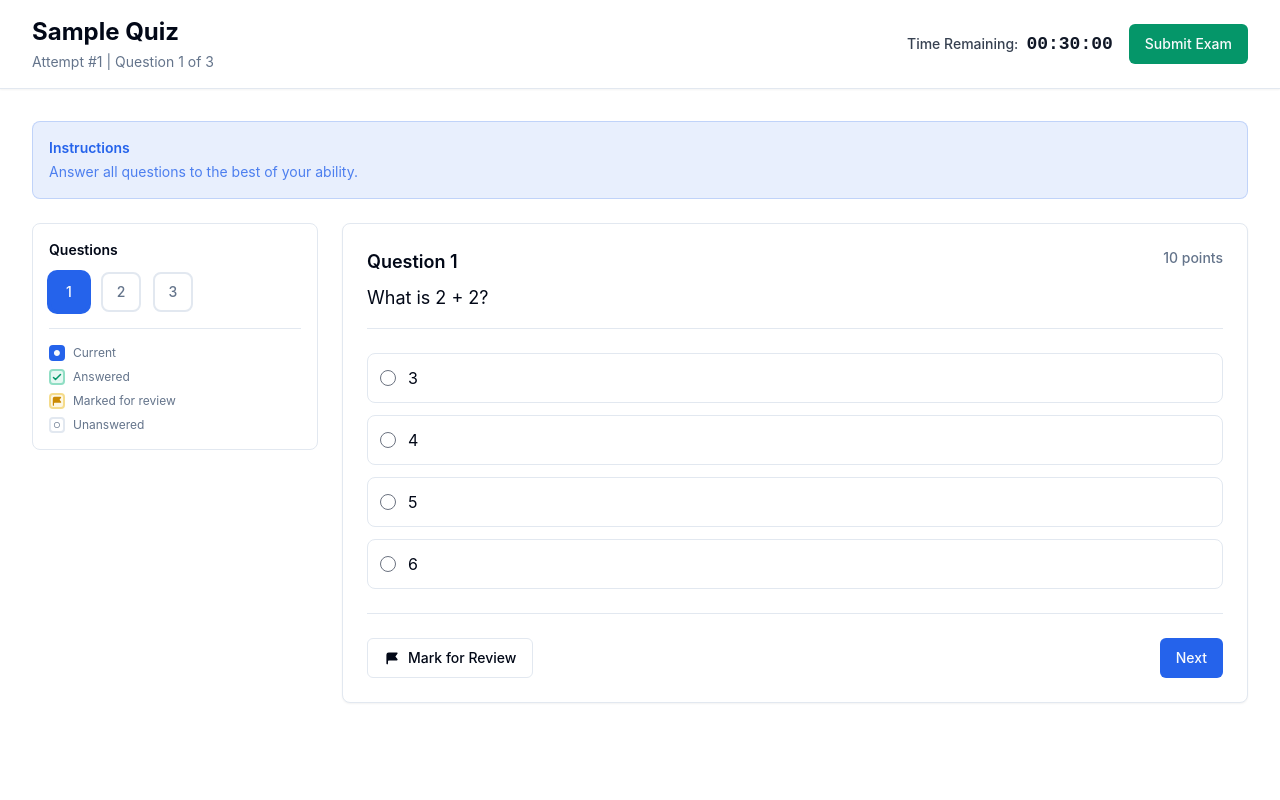
it: ExerciseTakingPage › Navigation › should navigate to previous question on previous button click
Go to next question
What coordinates should you click on to do the following:
click the button "Next"
I would click on:
 (1191, 658)
Its box is [1160,638,1223,678].
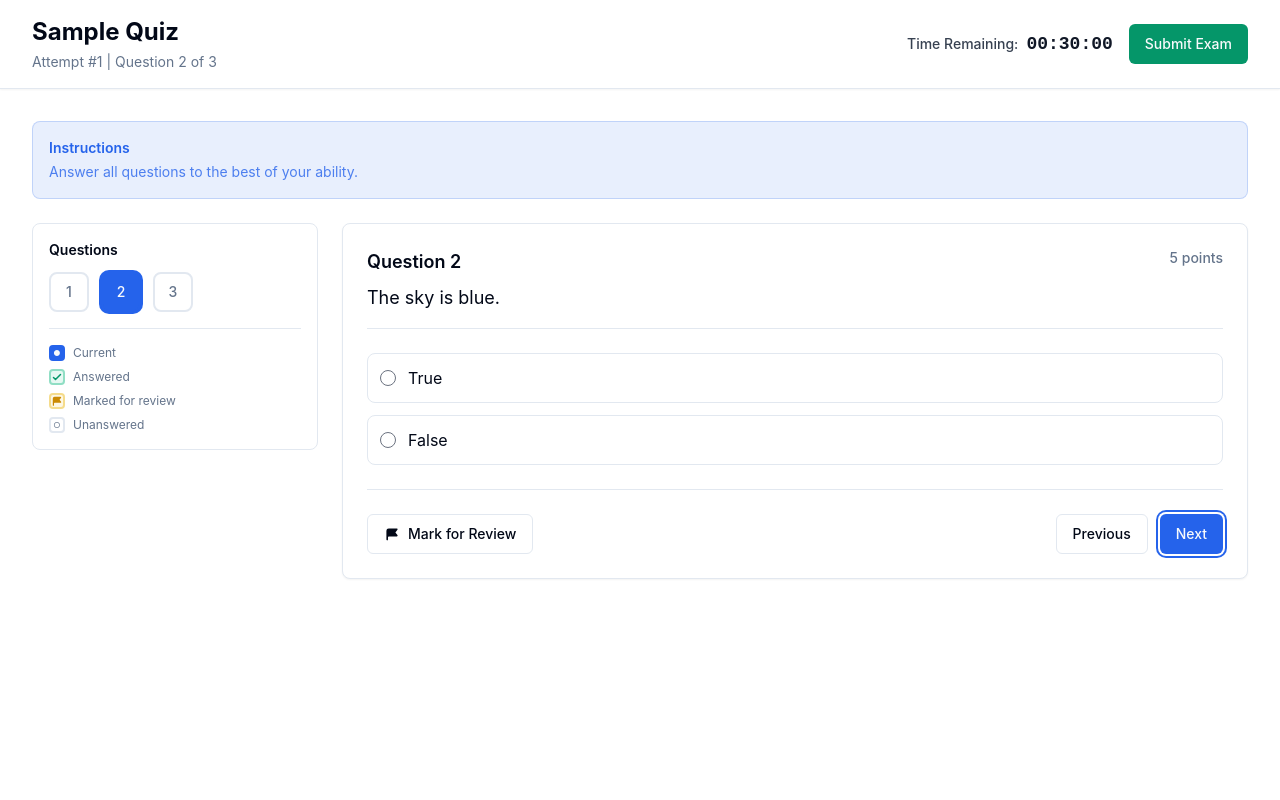
Now the button "Previous" is shown
What coordinates should you click on to do the following:
click the button "Previous"
I would click on:
 (1102, 534)
Its box is [1056,514,1148,554].
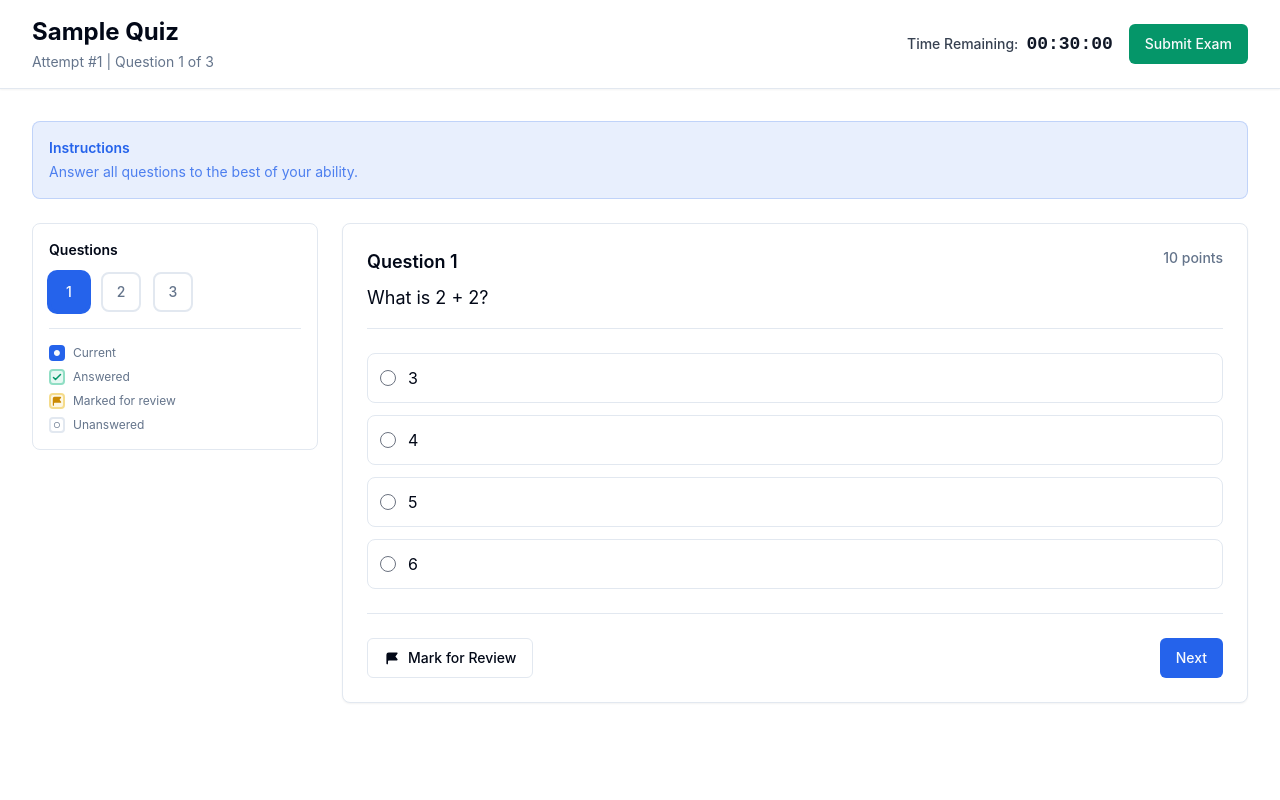
Now the text "What is 2 + 2?" is shown, box [367,287,489,308]
